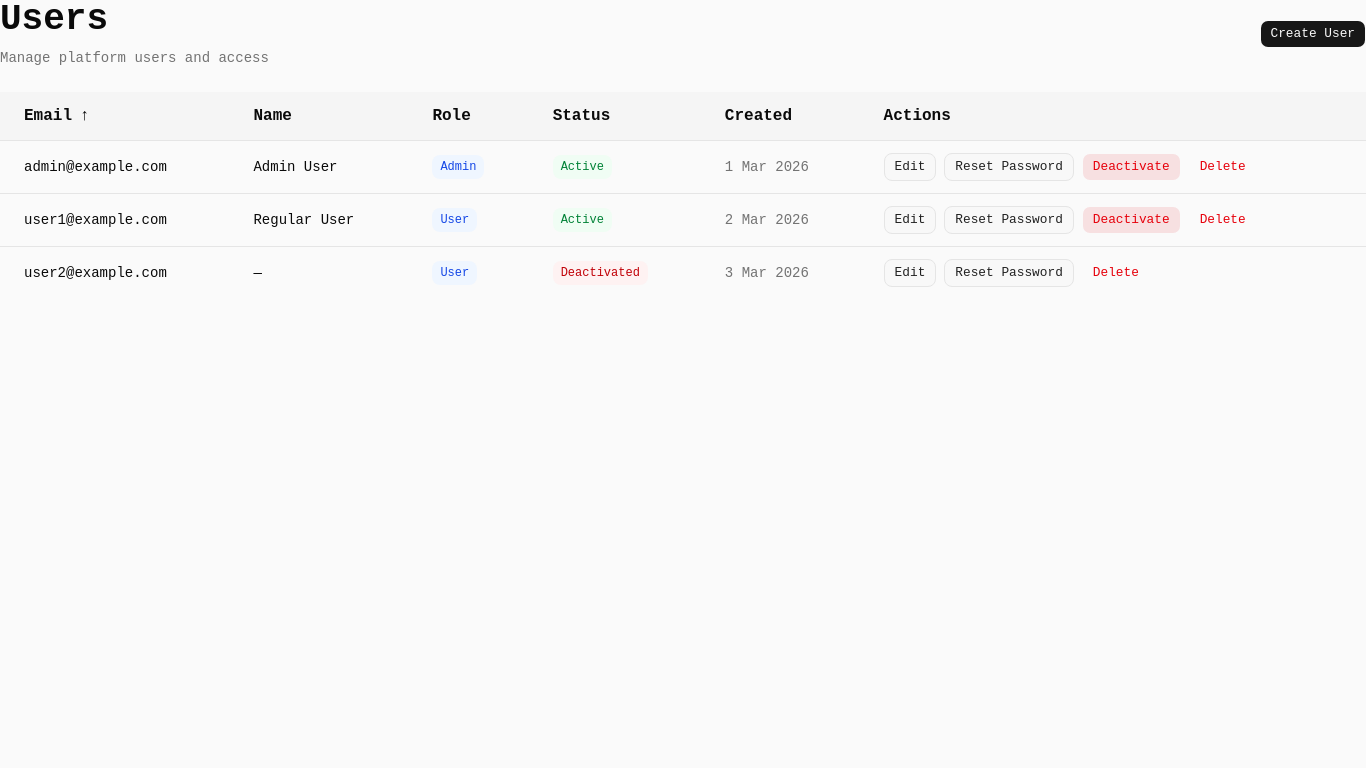
Test: SettingsUsers › create user › shows error when email already exists
The image size is (1366, 768).
Click the button "Create User" at {"x": 1313, "y": 34}, box top-left (1260, 20), bottom-right (1365, 48)
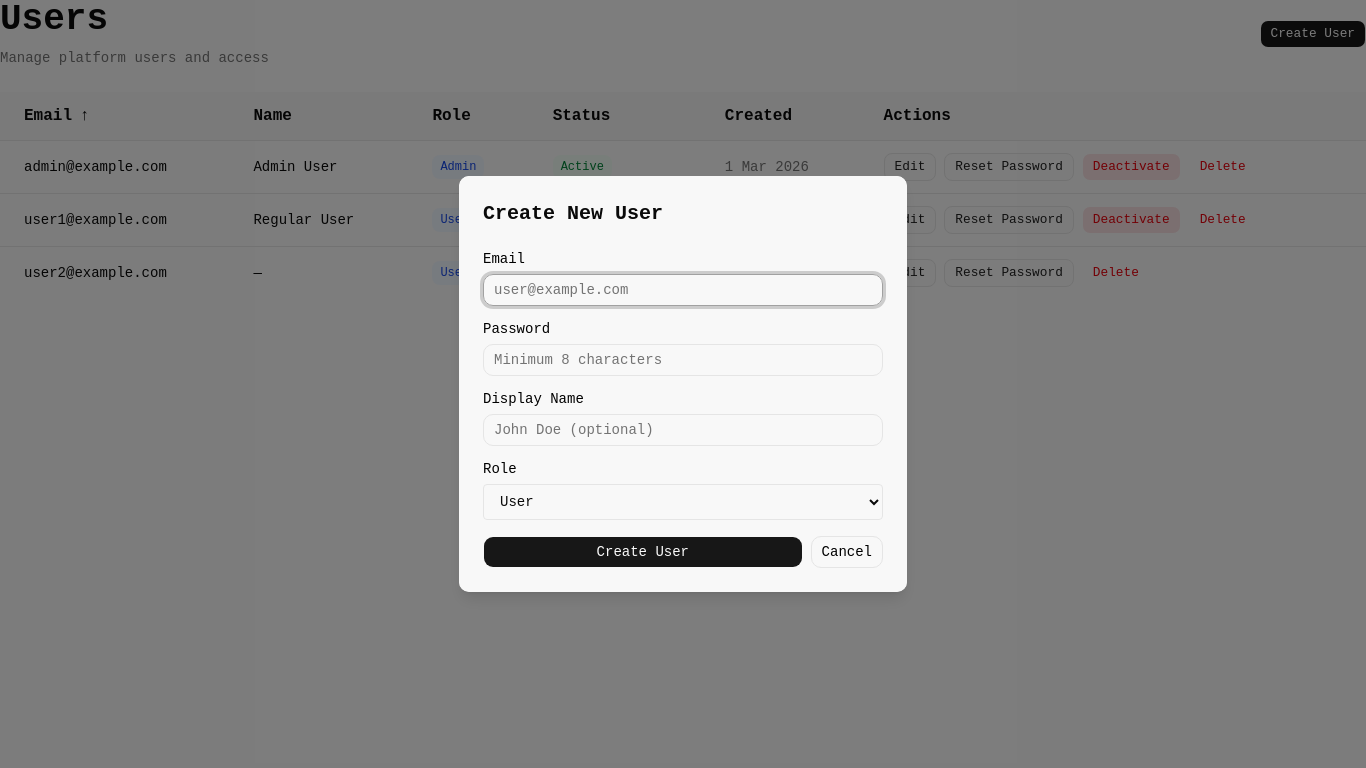
Check: the field with placeholder "user@example.com" is shown
Type "existing@example.com" into the field with placeholder "user@example.com" at {"x": 683, "y": 290}, box top-left (483, 274), bottom-right (883, 306)
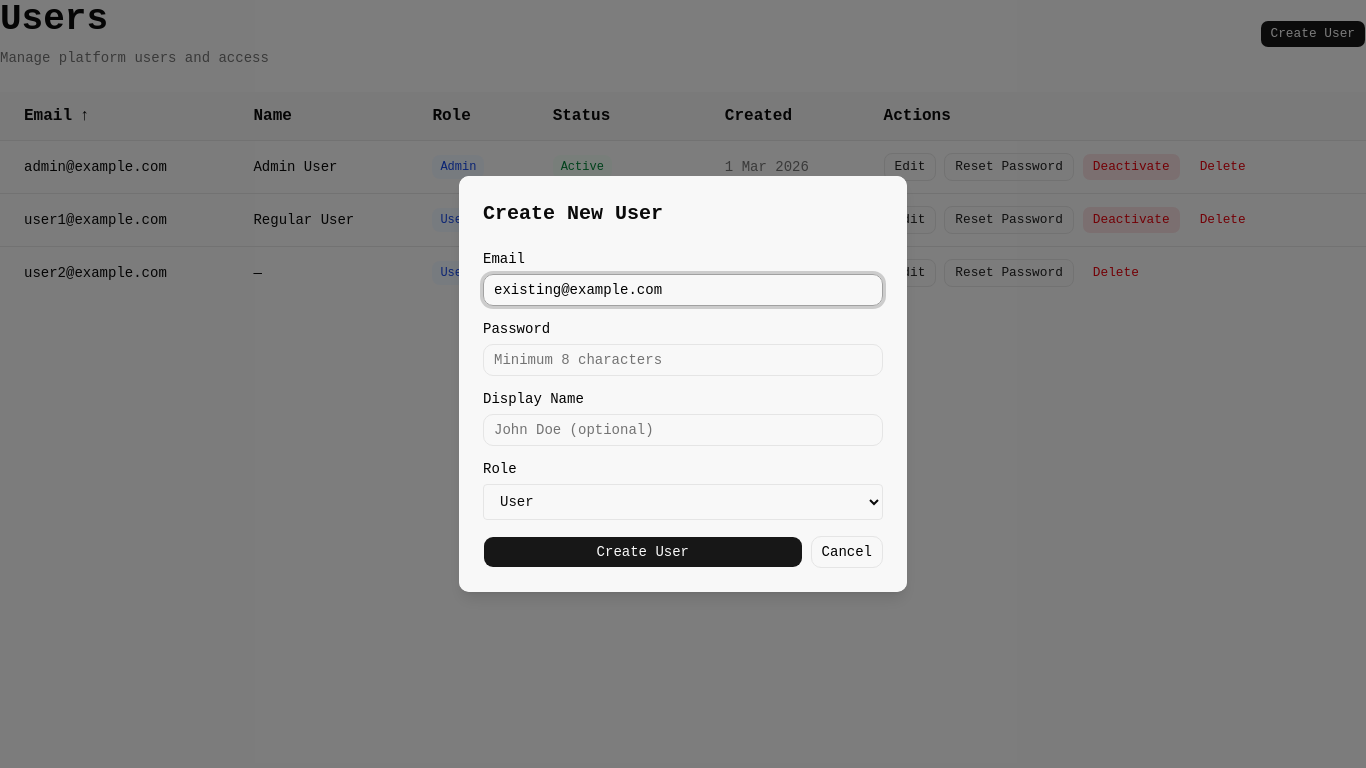
Type "password123" into the password field with placeholder "Minimum 8 characters" at {"x": 683, "y": 360}, box top-left (483, 344), bottom-right (883, 376)
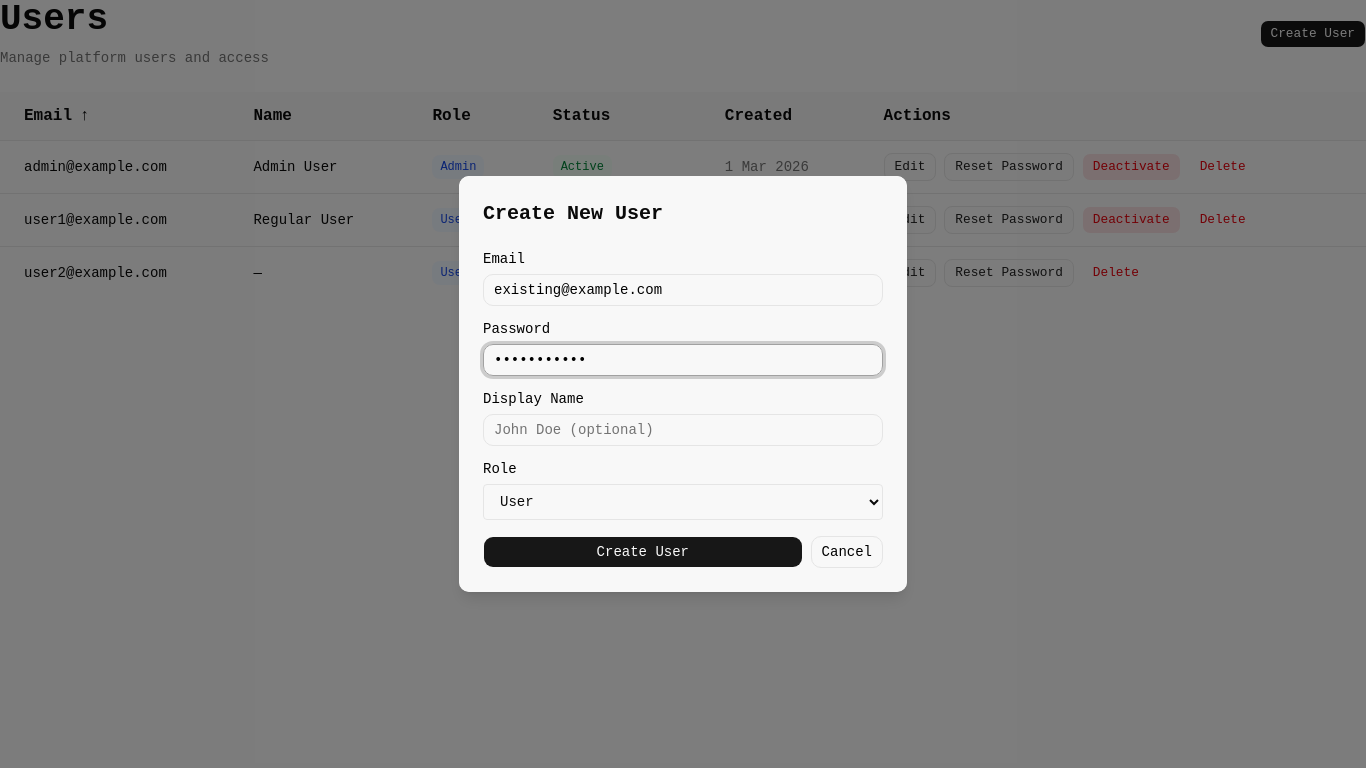
Click the button "Create User" at {"x": 643, "y": 552}, box top-left (483, 536), bottom-right (803, 568)
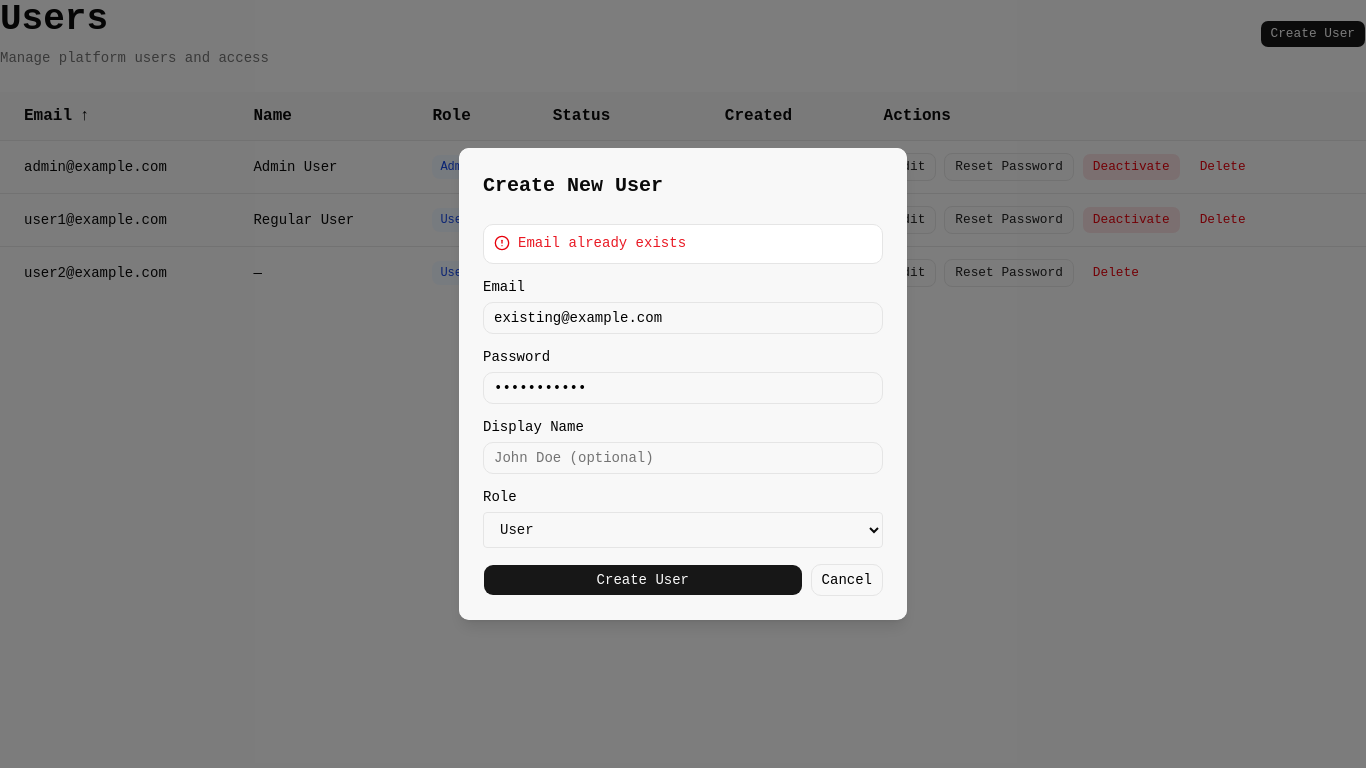
Check: the text "Email already exists" is shown, box top-left (518, 235), bottom-right (686, 251)
